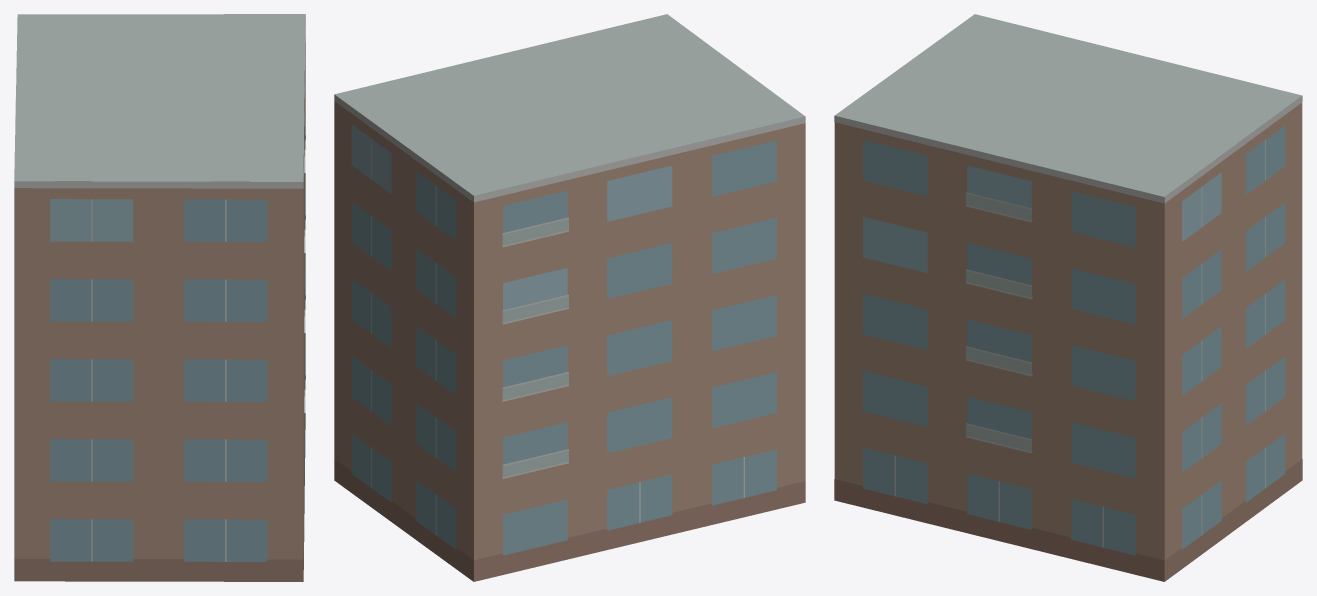
File: survey-upis-32873526.glb
The picture shows the model from 3 angles, left to right: view 1: azimuth 30°, elevation 25°; view 2: azimuth 150°, elevation 25°; view 3: azimuth 270°, elevation 25°; orthographic projection. The views are drawn at different scales.
Visible parts, largest first — view 1: survey-upis-32873526.tmp; view 2: survey-upis-32873526.tmp; view 3: survey-upis-32873526.tmp.
Part boxes in pixels (bbox=[...]): survey-upis-32873526.tmp: bbox=[14, 14, 305, 581]; survey-upis-32873526.tmp: bbox=[334, 14, 805, 581]; survey-upis-32873526.tmp: bbox=[834, 14, 1302, 581].
Bounding box in the file's own units: 14.6 × 14.3 × 15.77.
